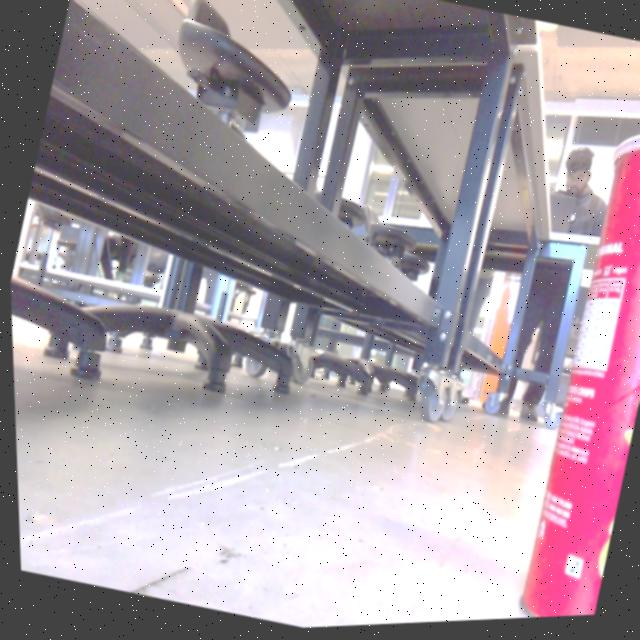redpringles: (473, 108, 640, 624)
